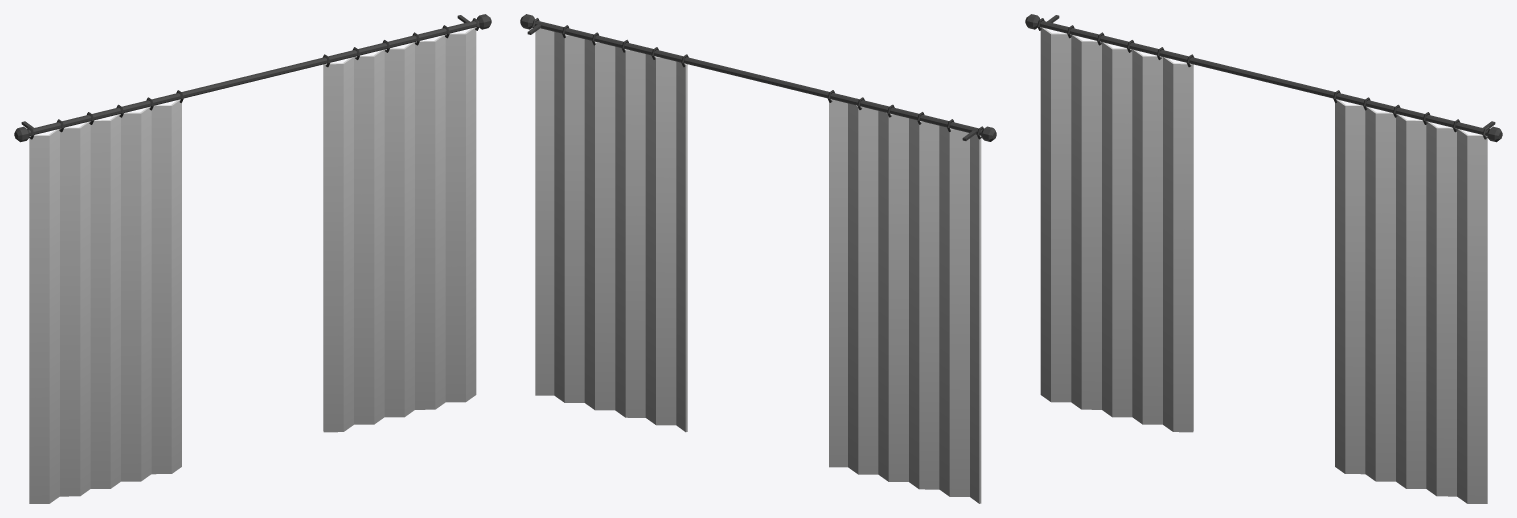
The model's file is Curtains3_C3.fbx.
3 renders of one model, left to right at view 1: azimuth 30°, elevation 25°; view 2: azimuth 150°, elevation 25°; view 3: azimuth 330°, elevation 25°, orthographic.
Visible parts, largest first — view 1: Curtains3_C3; view 2: Curtains3_C3; view 3: Curtains3_C3.
Part boxes in pixels (bbox=[...]): Curtains3_C3: bbox=[14, 14, 491, 503]; Curtains3_C3: bbox=[520, 14, 996, 503]; Curtains3_C3: bbox=[1025, 14, 1502, 503].
Bounding box in the file's own units: 233 × 178 × 14.03.
